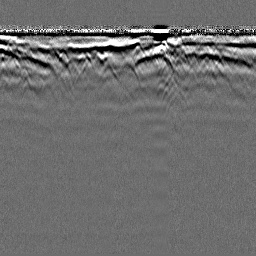cavity: (118, 55, 140, 81)
